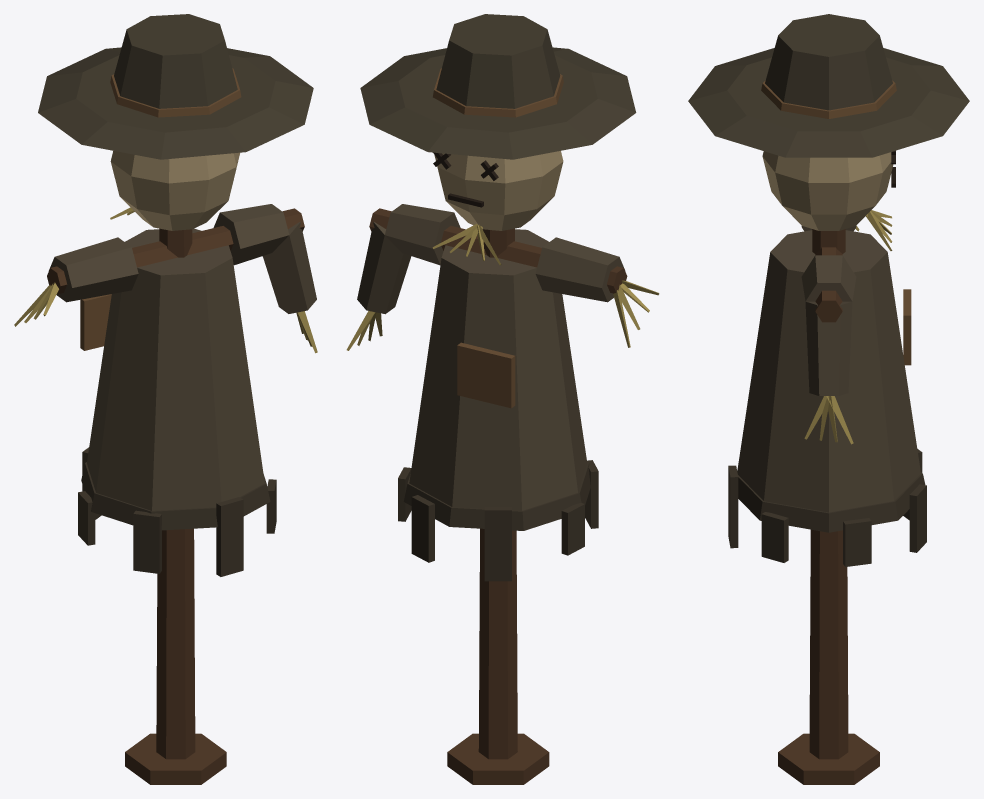
The model's file is prop_scarecrow_field.glb.
The picture shows the model from 3 angles, left to right: view 1: azimuth 30°, elevation 25°; view 2: azimuth 150°, elevation 25°; view 3: azimuth 270°, elevation 25°; orthographic projection.
Parts seen in each view (by area): view 1: Scarecrow; view 2: Scarecrow; view 3: Scarecrow.
Boxes of the visible parts, box(x1,y1,x2,y2) form: Scarecrow: box(14, 14, 317, 784); Scarecrow: box(346, 14, 659, 784); Scarecrow: box(688, 14, 969, 784).
Bounding box in the file's own units: 0.8458 × 2.06 × 0.72.
